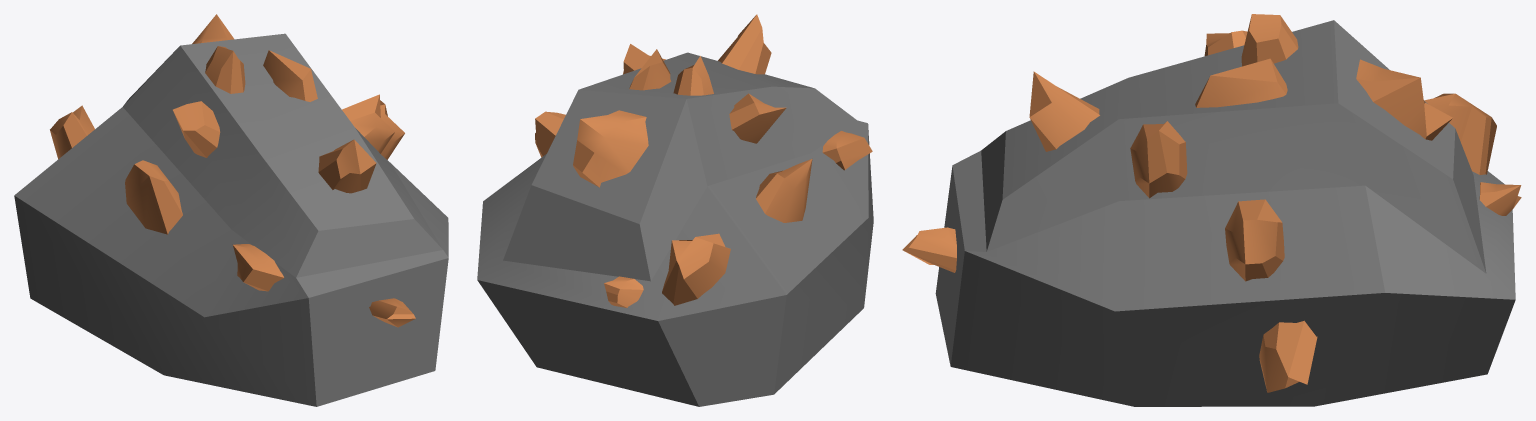
File: MineLvl2.fbx
3 renders of one model, left to right at view 1: azimuth 30°, elevation 25°; view 2: azimuth 150°, elevation 25°; view 3: azimuth 270°, elevation 25°, orthographic. The views are drawn at different scales.
Visible parts, largest first — view 1: MineLvl2; view 2: MineLvl2; view 3: MineLvl2.
Part boxes in pixels (bbox=[...]): MineLvl2: bbox=[14, 14, 448, 406]; MineLvl2: bbox=[477, 14, 873, 406]; MineLvl2: bbox=[902, 14, 1521, 406].
Size of the model in its own units: 419 by 302 by 530.
